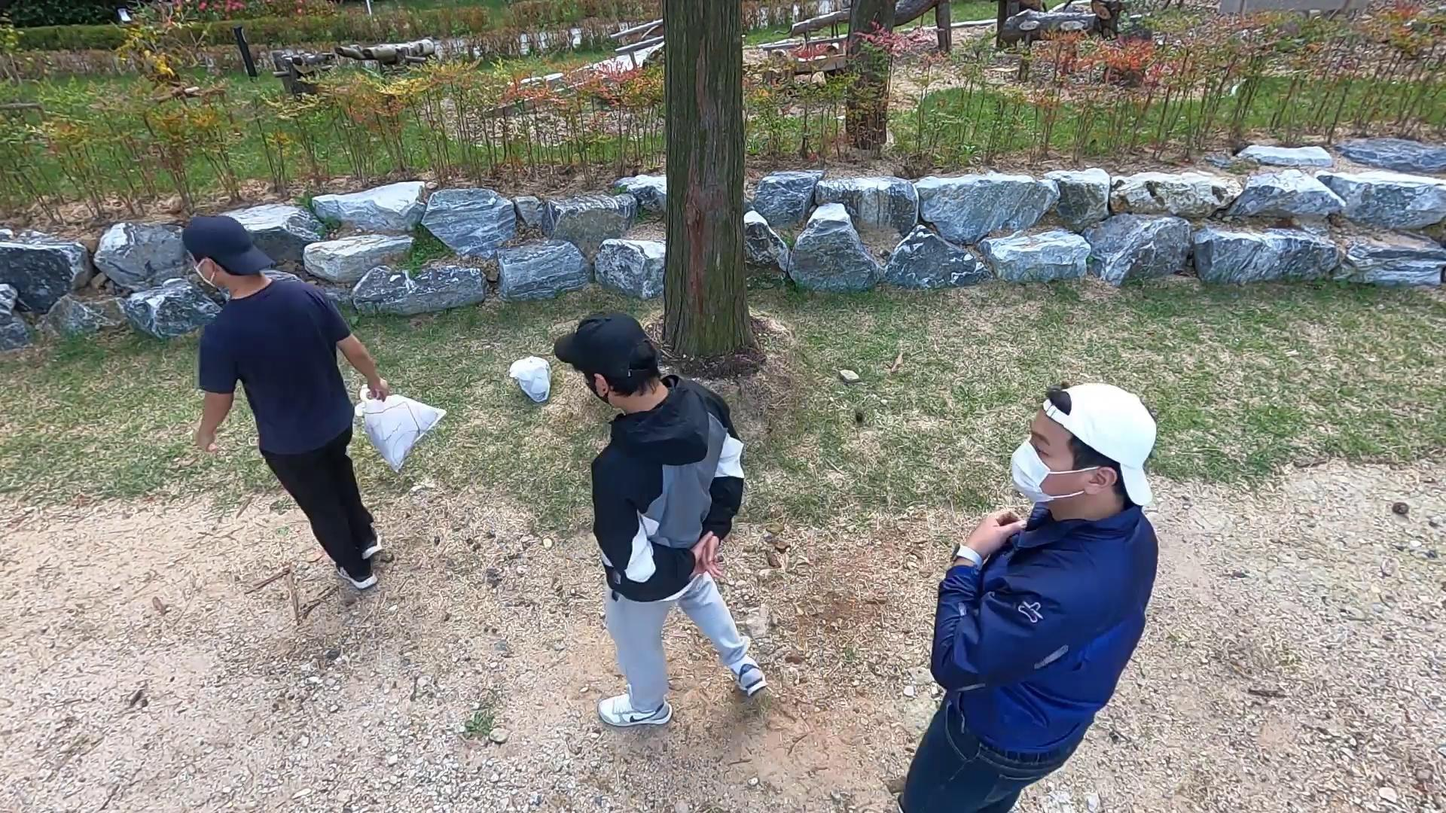person: (895, 380, 1159, 813), (553, 308, 771, 728), (177, 218, 395, 592)
trash: (348, 381, 447, 472), (506, 354, 554, 407)
